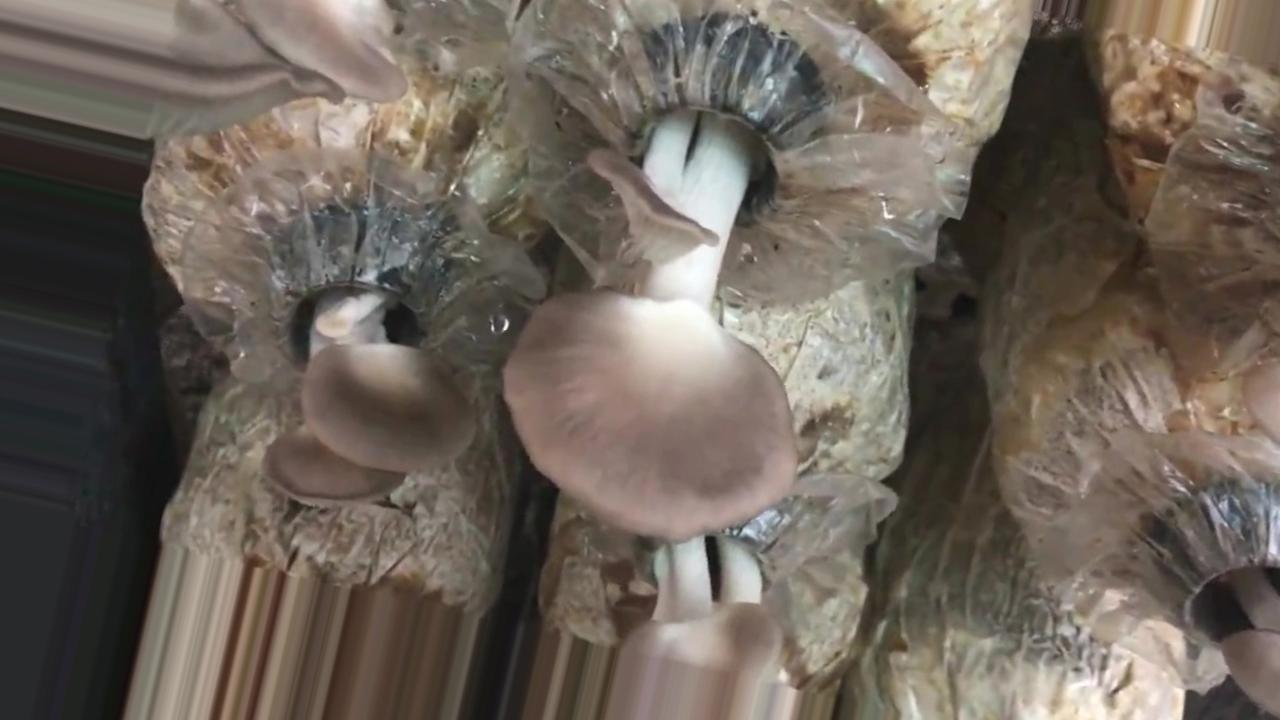nam: (503, 57, 799, 546), (256, 210, 480, 512), (606, 510, 786, 720), (1171, 489, 1280, 716)
